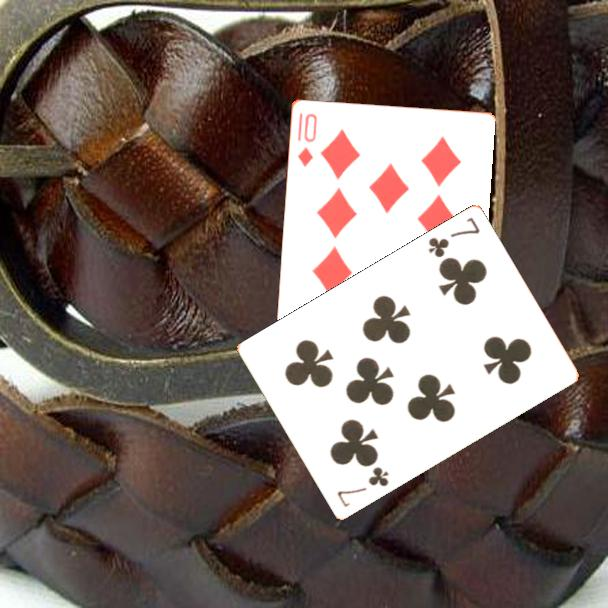c07: (333, 463, 392, 511), (424, 214, 483, 261)
d10: (294, 110, 320, 169)
